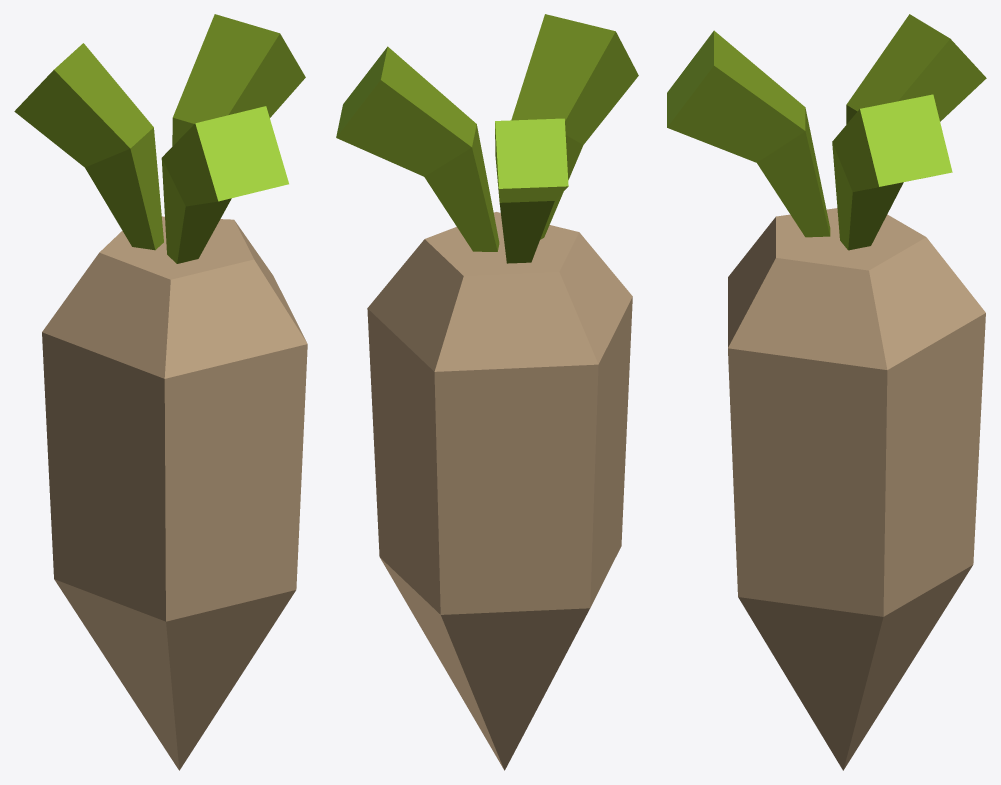
Rendered from TB_Prop_Daikon.FBX.
3 views of the same model, side by side, from view 1: azimuth 30°, elevation 25°; view 2: azimuth 150°, elevation 25°; view 3: azimuth 270°, elevation 25° (orthographic).
Visible parts, largest first — view 1: TB_Prop_Daikon; view 2: TB_Prop_Daikon; view 3: TB_Prop_Daikon.
Boxes of the visible parts, left/top/right/bottom form: TB_Prop_Daikon: left=14, top=14, right=307, bottom=770; TB_Prop_Daikon: left=336, top=14, right=638, bottom=770; TB_Prop_Daikon: left=667, top=14, right=986, bottom=770.
Size of the model in its own units: 0.2701 by 0.7008 by 0.2832.
